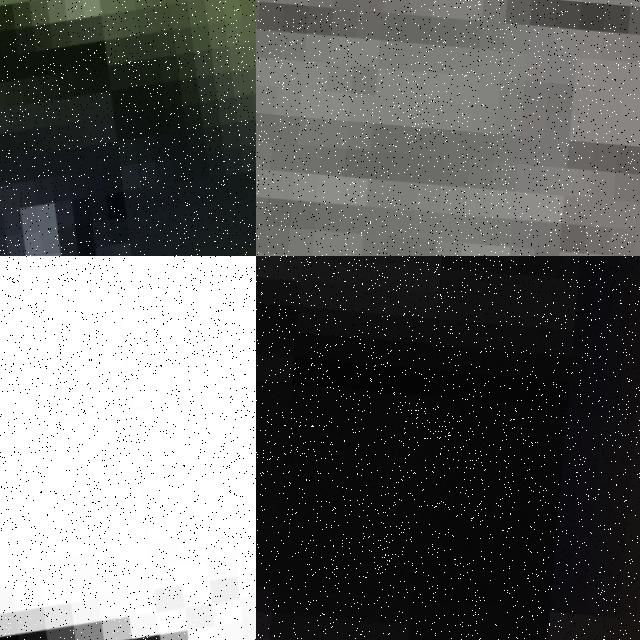0: (0, 0, 256, 256)
drone: (0, 256, 256, 640)
